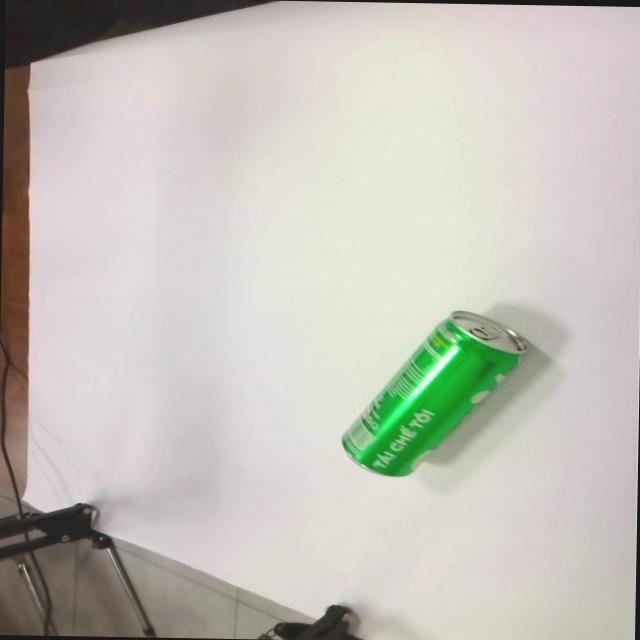debris: (338, 306, 530, 480)
